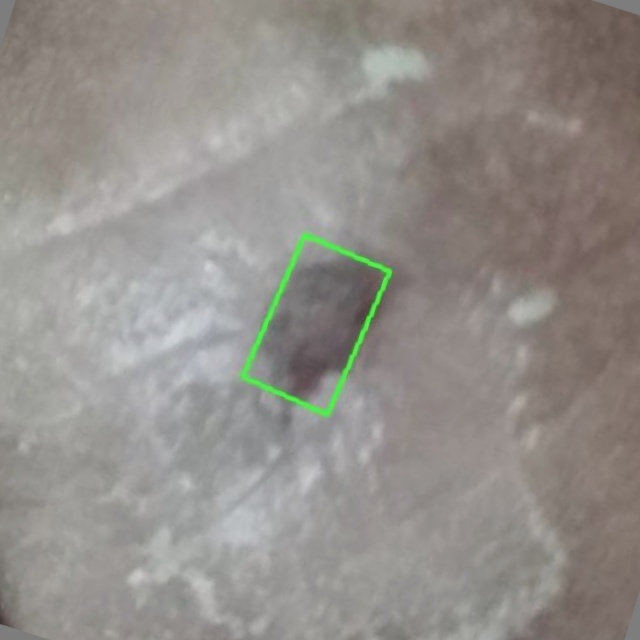Tinea Corporis: (242, 235, 389, 414)
